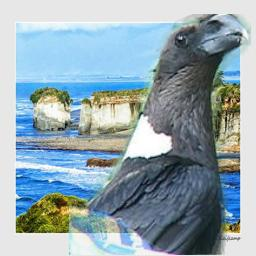Crow: (69, 14, 251, 255)
